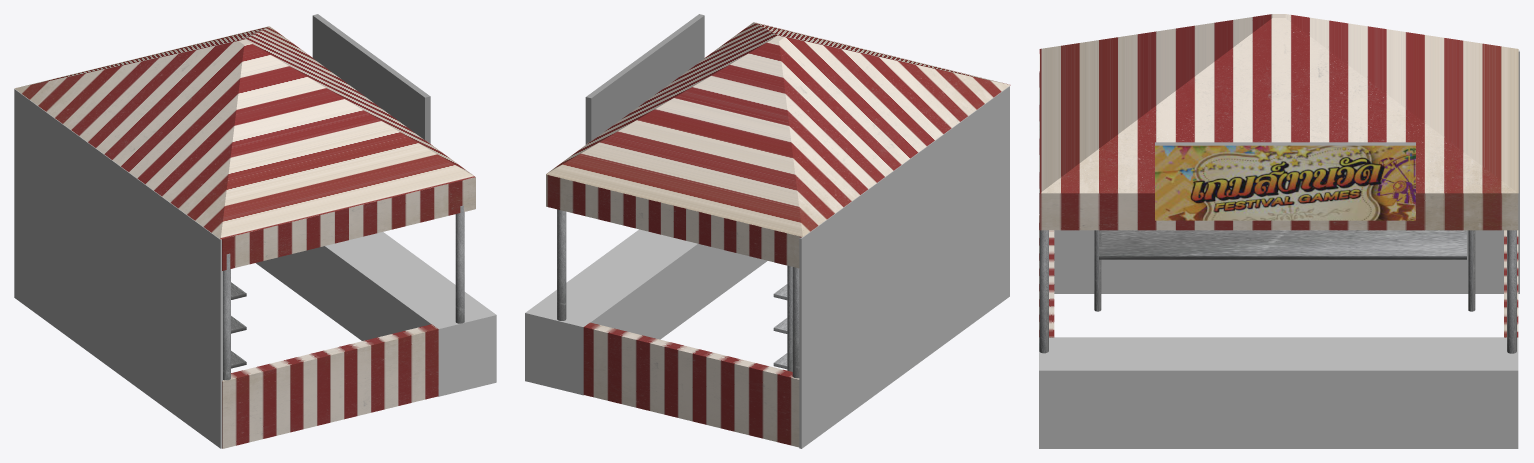
Rendered from boothgame.fbx.
3 views of the same model, side by side, from view 1: azimuth 30°, elevation 25°; view 2: azimuth 150°, elevation 25°; view 3: azimuth 270°, elevation 25° (orthographic). The views are drawn at different scales.
Visible parts, largest first — view 1: pCube5, pCube4, pCube84, pasted__pasted__pCube88, pasted__pasted__pasted__pCube88, pCube85, pasted__pCylinder14, pasted__pCylinder15; view 2: pCube5, pCube4, pCube84, pasted__pCube88, pasted__pasted__pCube88, pCube85, pCylinder14, pCylinder15, pasted__pCylinder15; view 3: pCube5, pCube84, pCube85, pCube4, pasted__pCube84, pCube86, pasted__pCylinder14, pCylinder14, pasted__pasted__pCube88, pasted__pCylinder15, pasted__pasted__pCylinder15, pasted__pCube88.
Boxes of the visible parts, bbox=[...] form: pCube5: bbox=[14, 26, 474, 239]; pCube4: bbox=[14, 89, 222, 448]; pCube84: bbox=[256, 232, 496, 396]; pasted__pasted__pCube88: bbox=[222, 324, 438, 448]; pasted__pasted__pasted__pCube88: bbox=[222, 177, 475, 270]; pCube85: bbox=[312, 14, 430, 143]; pasted__pCylinder14: bbox=[455, 205, 464, 323]; pasted__pCylinder15: bbox=[223, 253, 230, 380]; pCube5: bbox=[546, 22, 1010, 236]; pCube4: bbox=[799, 86, 1009, 448]; pCube84: bbox=[525, 229, 767, 395]; pasted__pCube88: bbox=[583, 322, 799, 447]; pasted__pasted__pCube88: bbox=[546, 174, 801, 268]; pCube85: bbox=[585, 14, 704, 144]; pCylinder14: bbox=[557, 209, 566, 320]; pCylinder15: bbox=[792, 267, 799, 378]; pasted__pCylinder15: bbox=[787, 265, 792, 371]; pCube5: bbox=[1039, 14, 1518, 193]; pCube84: bbox=[1039, 337, 1518, 448]; pCube85: bbox=[1155, 142, 1415, 220]; pCube4: bbox=[1054, 50, 1519, 293]; pasted__pCube84: bbox=[1040, 193, 1517, 230]; pCube86: bbox=[1099, 230, 1466, 259]; pasted__pCylinder14: bbox=[1039, 214, 1048, 353]; pCylinder14: bbox=[1507, 230, 1516, 353]; pasted__pasted__pCube88: bbox=[1039, 215, 1054, 337]; pasted__pCylinder15: bbox=[1468, 230, 1475, 311]; pasted__pasted__pCylinder15: bbox=[1094, 230, 1101, 311]; pasted__pCube88: bbox=[1504, 230, 1518, 337].
Bounding box in the file's own units: 11.66 × 12.16 × 15.18.
